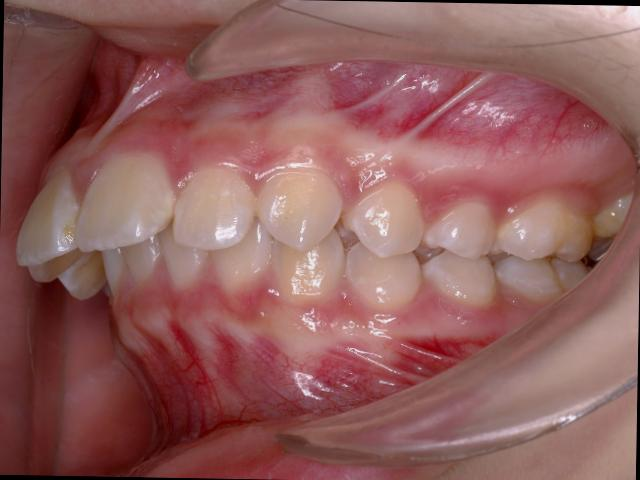canine class II 1/2: (254, 166, 428, 322)
molar class II 1/2: (492, 195, 598, 313)
